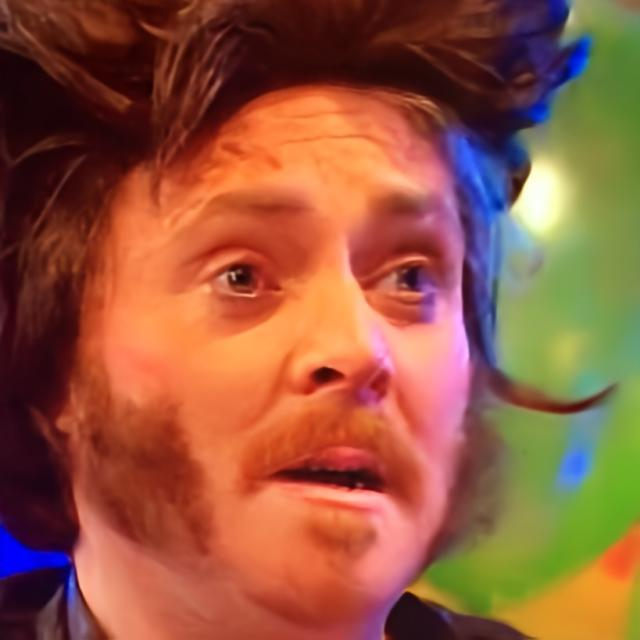fear: (78, 74, 473, 626)
